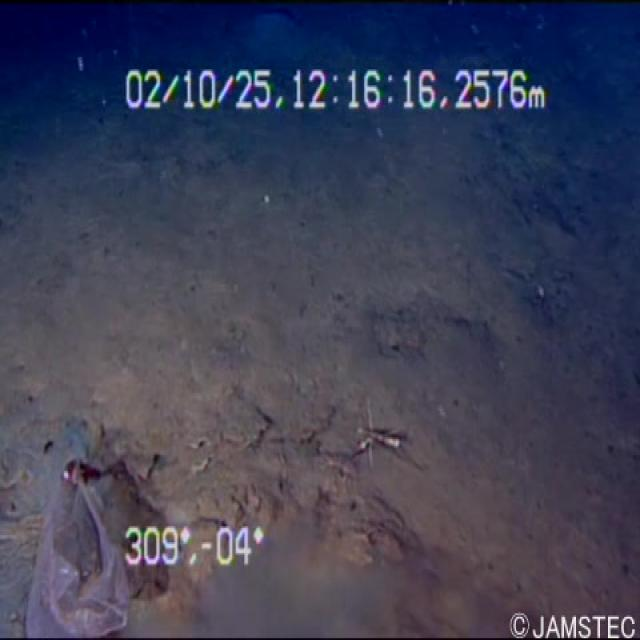plastic: (15, 443, 153, 638)
